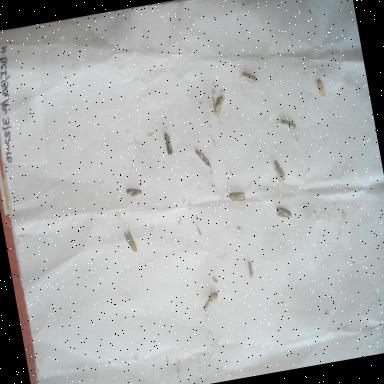pbw: (208, 84, 230, 116), (270, 156, 289, 184), (201, 290, 224, 313), (236, 66, 260, 88), (278, 112, 302, 134), (122, 227, 140, 256), (192, 144, 212, 170), (160, 130, 176, 158), (313, 76, 331, 100), (226, 187, 249, 204), (274, 204, 294, 222), (246, 258, 258, 282), (124, 186, 144, 200)
